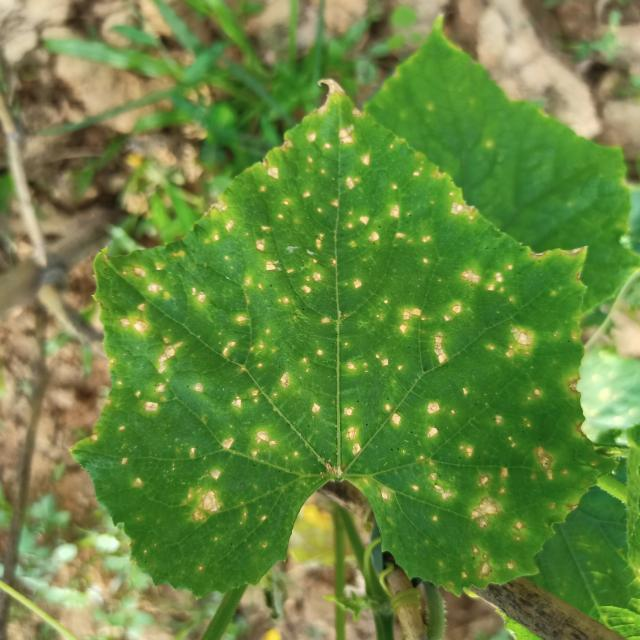disease_cucumber: (115, 120, 542, 372), (92, 309, 364, 577), (344, 296, 578, 586)
